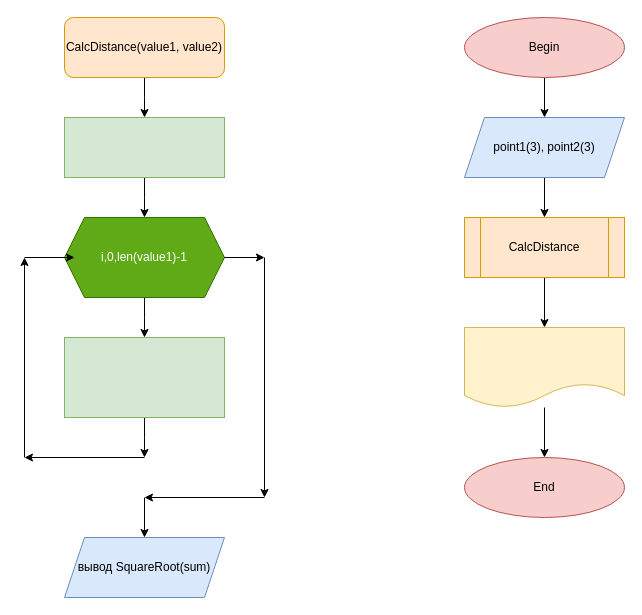
The diagram is 642 pixels wide and 615 high, and some of its shapes have lost their labels. The shapes that lost their labels are listed below. From the top down, each one's centre as x and y in pixels, then its label:
(x=144, y=147): sum = 0
(x=144, y=377): sum += value1[i] - value2[i] * value1[i] - value2[i]
(x=544, y=367): CalcDistance(point1, point2)
